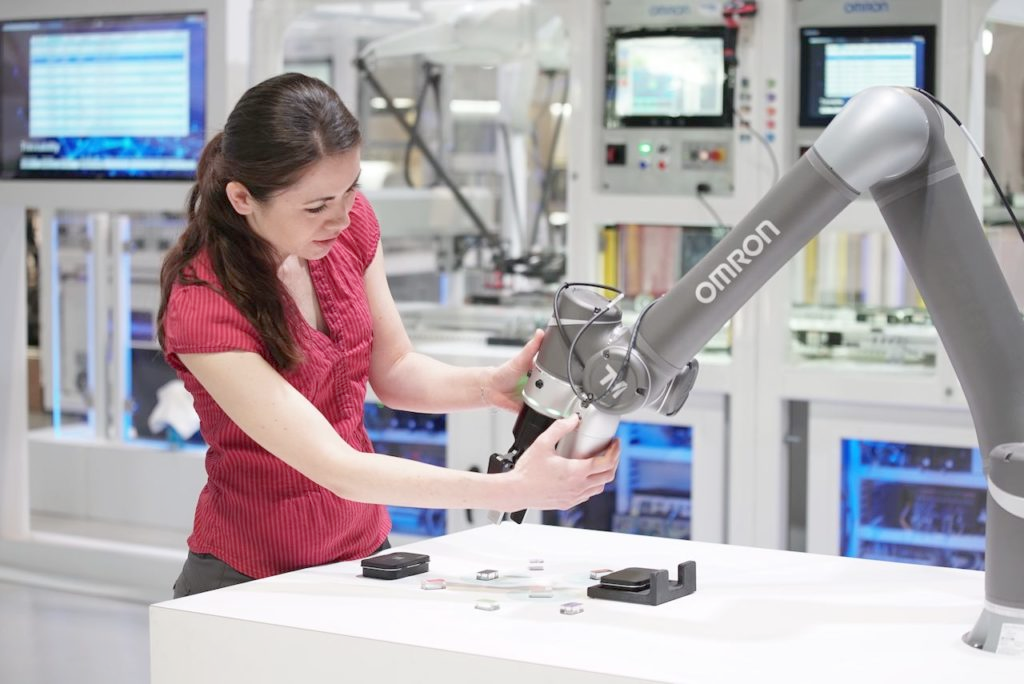person: (163, 73, 622, 605)
robot: (487, 83, 1024, 658)
